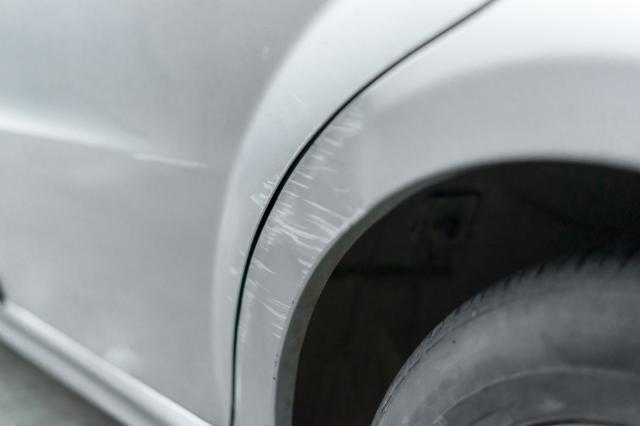Fender: (242, 89, 389, 338)
